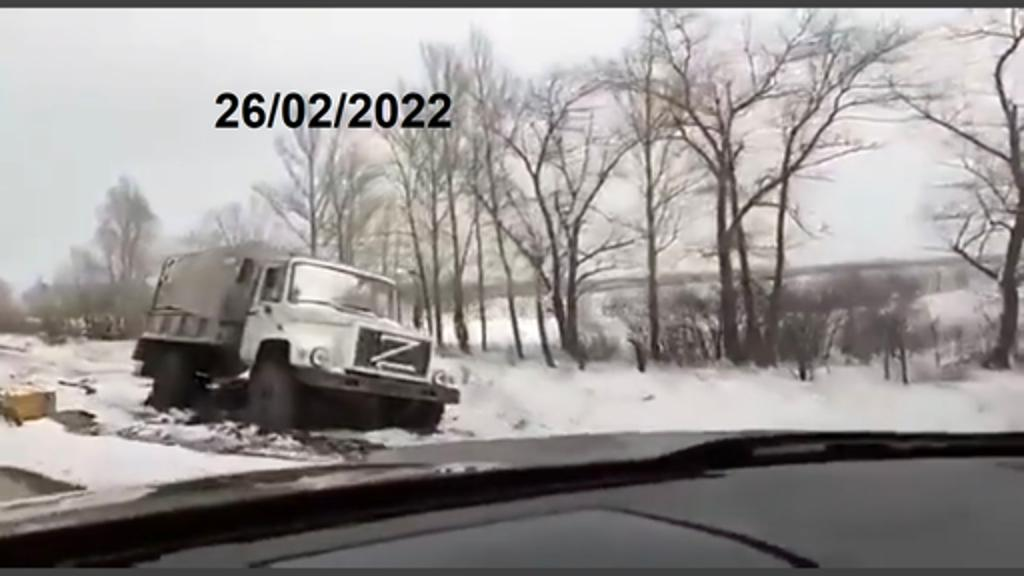TRUCK: (134, 240, 462, 444)
